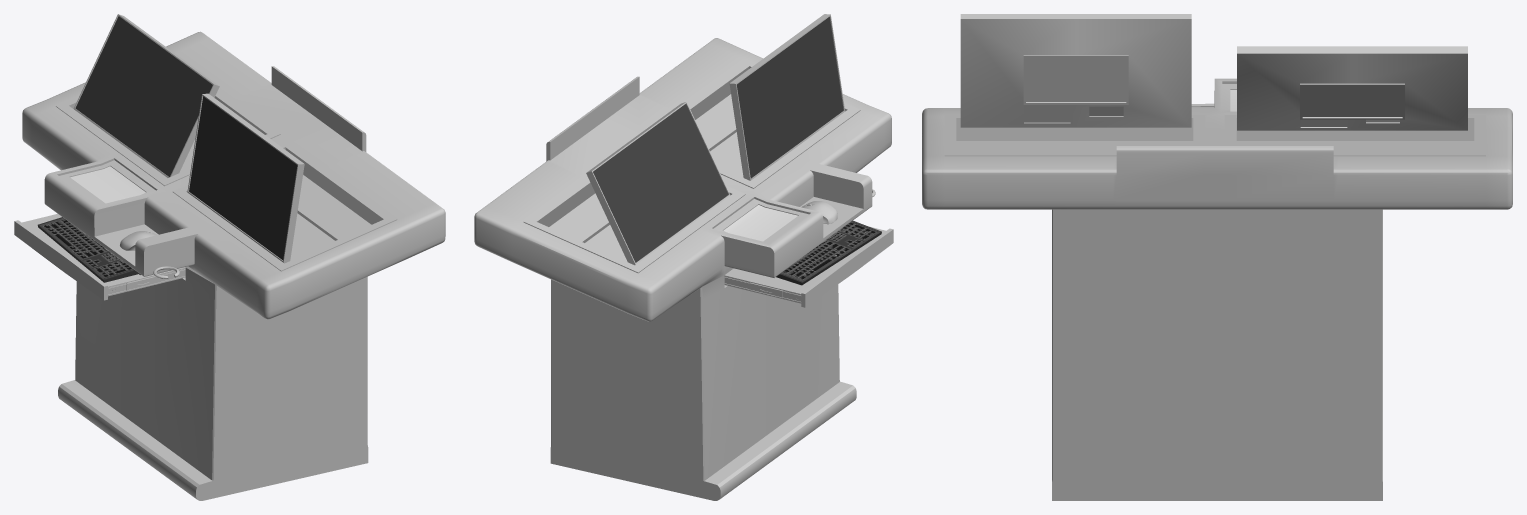
The model's file is 317 교수책상.fbx.
3 renders of one model, left to right at view 1: azimuth 30°, elevation 25°; view 2: azimuth 150°, elevation 25°; view 3: azimuth 270°, elevation 25°, orthographic. The views are drawn at different scales.
Visible parts, largest first — view 1: 교수 책상; view 2: 교수 책상; view 3: 교수 책상.
Boxes of the visible parts, left/top/right/bottom form: 교수 책상: left=14, top=14, right=445, bottom=500; 교수 책상: left=474, top=14, right=893, bottom=500; 교수 책상: left=922, top=14, right=1512, bottom=500.
Bounding box in the file's own units: 161 × 207 × 262.
